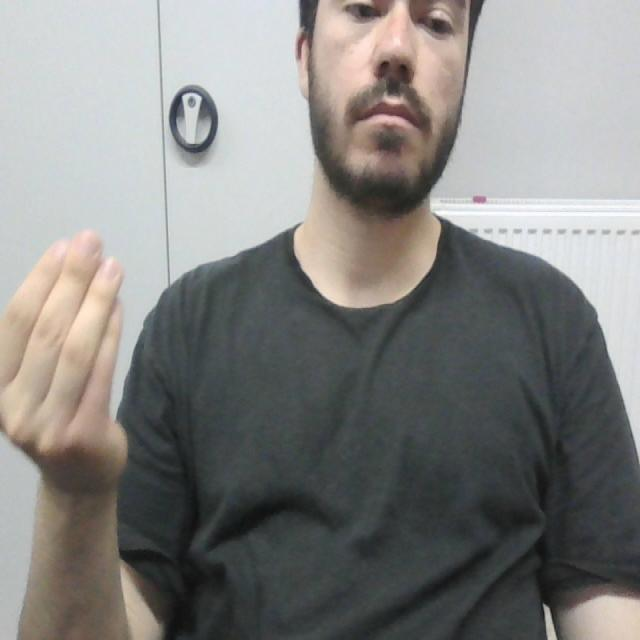iyi: (0, 223, 133, 468)
